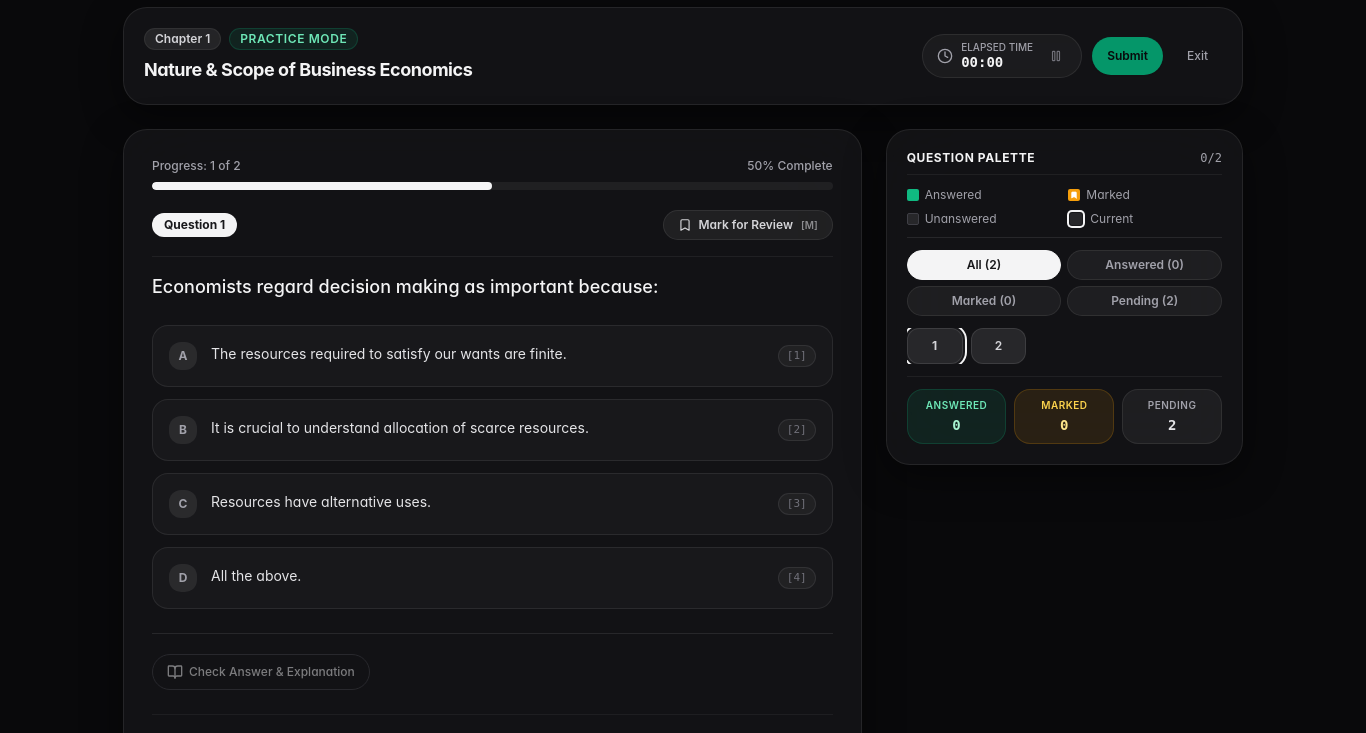
Test: Exercise Session Flow and UI Interactions › renders ExerciseSessionView and allows option selection and mark for review
Expected: the text "Economists regard decision making as important because:" is shown, [152,276,658,297]
Expected: the text "Question 1" is shown, [152,213,237,237]
Note: Option selection
Click the text "All the above." at (256, 576), box [211,567,301,584]
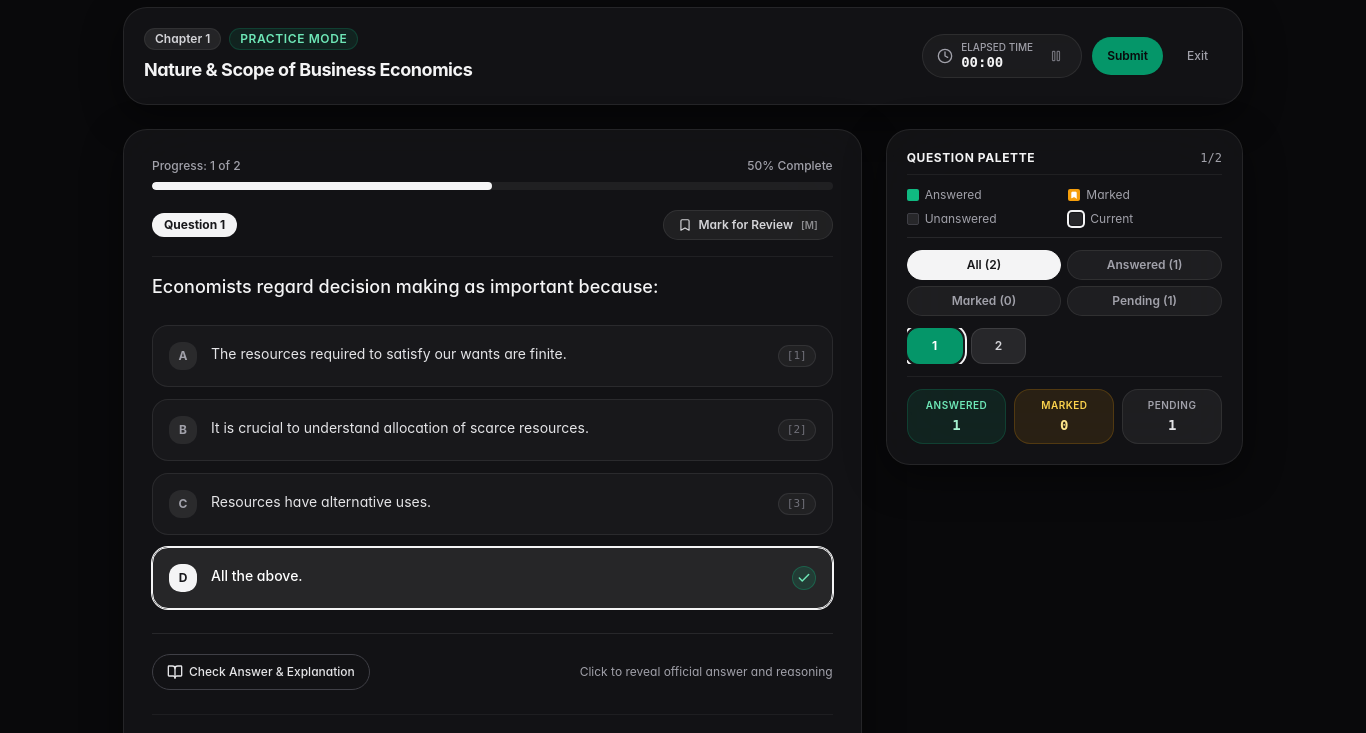
Note: Click Mark for Review
Click the button "Mark for Review [M]" at (748, 225), box [663,210,833,240]
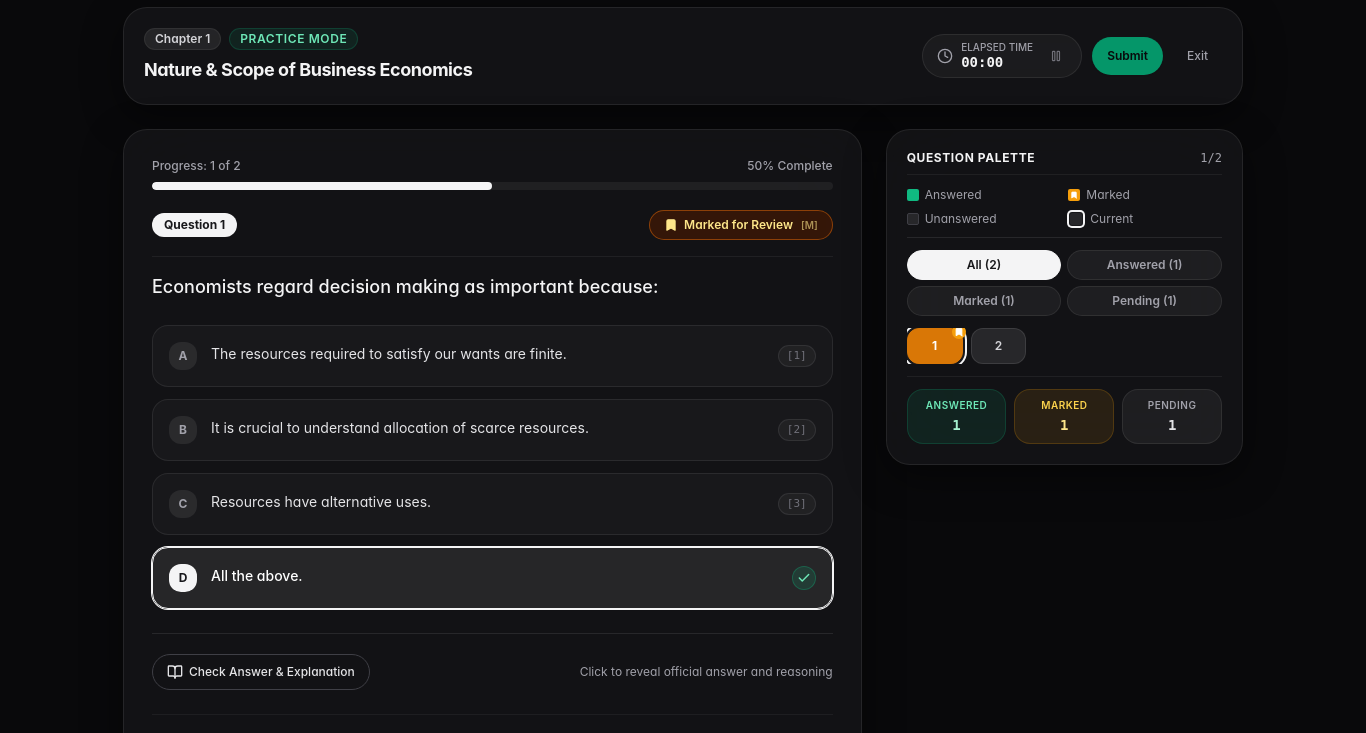
Expected: the button "Marked for Review [M]" is shown, [649,210,833,240]
Note: Practice mode "Check Answer" feature reveals explanation
Click the button "Check Answer & Explanation" at (261, 672), box [152,654,370,690]
(page scrolled)
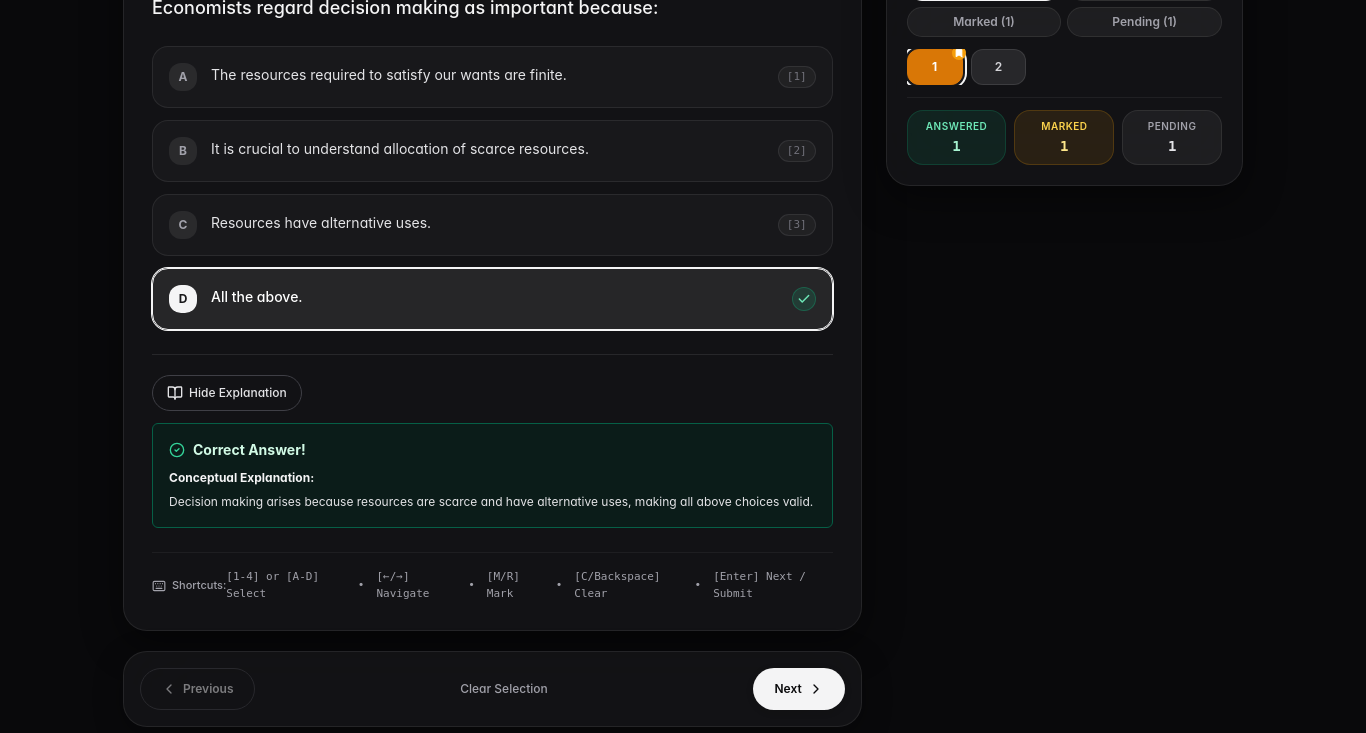
Expected: the text "Correct Answer!" is shown, [193,440,306,460]
Expected: the text "Decision making arises because resources are scarce" is shown, [169,494,813,508]
Note: Navigate to Next question
Click the button "Next" at (799, 689), box [753,668,845,710]
(page scrolled)
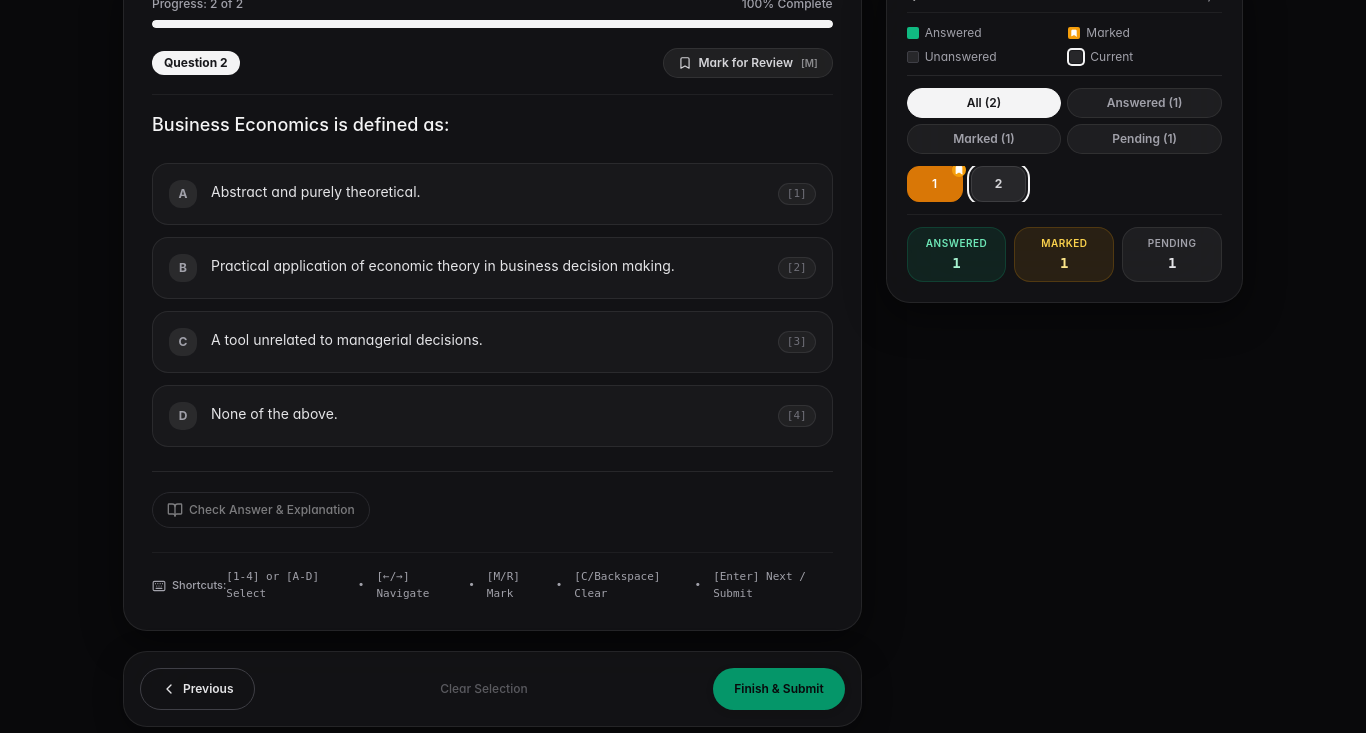
Expected: the text "Business Economics is defined as:" is shown, [152,114,450,135]
Expected: the text "Question 2" is shown, [152,51,240,75]
